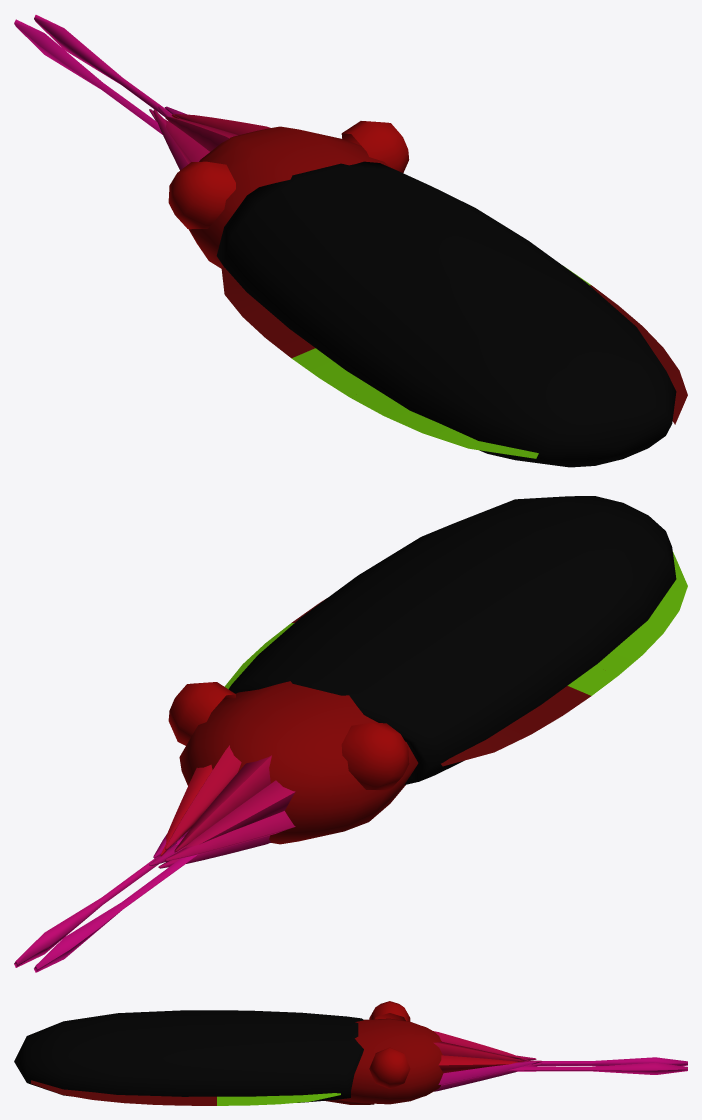
The model's file is cuttlefish_lo.glb.
3 renders of one model, top to bottom at view 1: azimuth 30°, elevation 25°; view 2: azimuth 150°, elevation 25°; view 3: azimuth 270°, elevation 25°, orthographic. The views are drawn at different scales.
Visible parts, largest first — view 1: cuttlefish_lo; view 2: cuttlefish_lo; view 3: cuttlefish_lo.
Part boxes in pixels (left/top/right/bottom): cuttlefish_lo: left=14, top=15, right=687, bottom=467; cuttlefish_lo: left=14, top=496, right=687, bottom=972; cuttlefish_lo: left=14, top=1001, right=687, bottom=1105.
Bounding box in the file's own units: 0.1515 × 0.0673 × 0.52.
